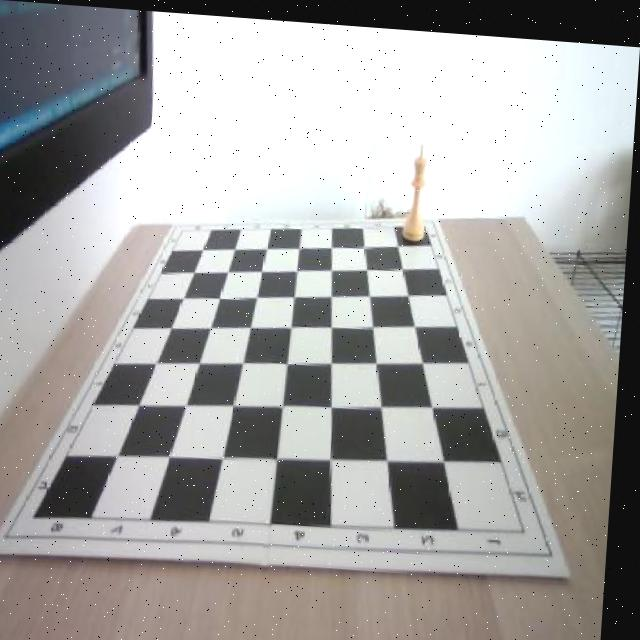white-bishop: (405, 134, 433, 234)
